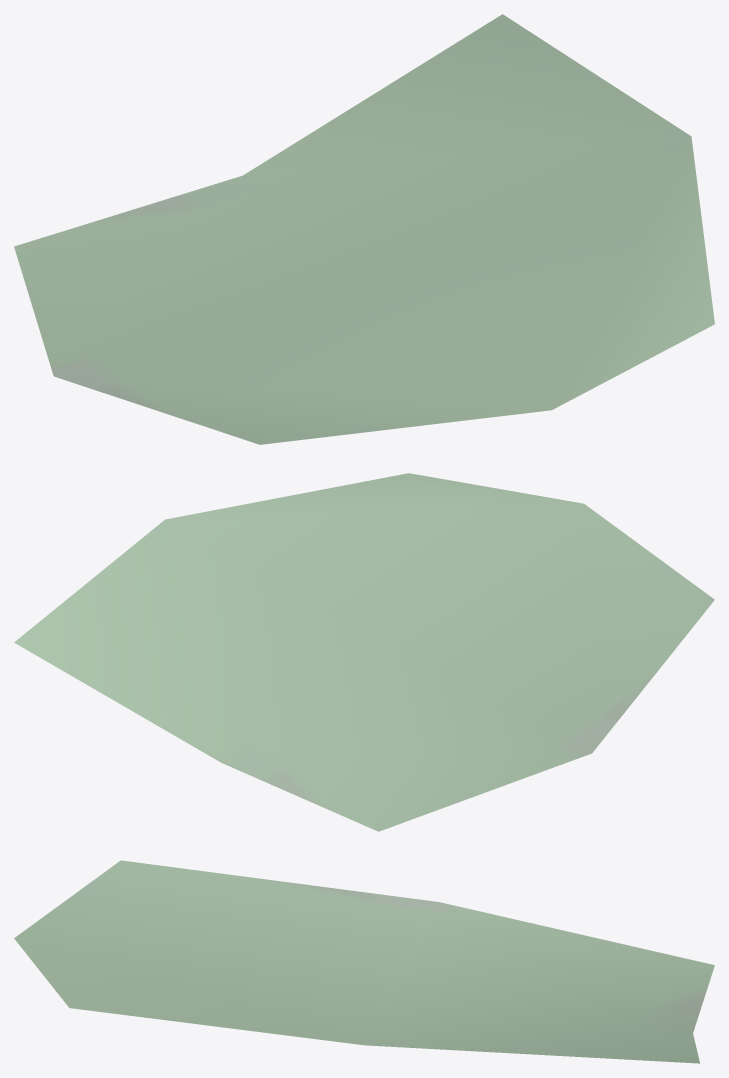
File: TROLLHOLE02_HOLECAP120.fbx
3 views of the same model, one above another, from view 1: azimuth 30°, elevation 25°; view 2: azimuth 150°, elevation 25°; view 3: azimuth 270°, elevation 25° (orthographic). The views are drawn at different scales.
Visible parts, largest first — view 1: TROLLHOLE02_HOLECAP120; view 2: TROLLHOLE02_HOLECAP120; view 3: TROLLHOLE02_HOLECAP120.
Part boxes in pixels (<box>): TROLLHOLE02_HOLECAP120: <box>14,14,714,444</box>; TROLLHOLE02_HOLECAP120: <box>14,473,714,831</box>; TROLLHOLE02_HOLECAP120: <box>14,860,714,1063</box>.
Bounding box in the file's own units: 12936 × 2907 × 15045.
Materials: 1 (1 with a texture image).
